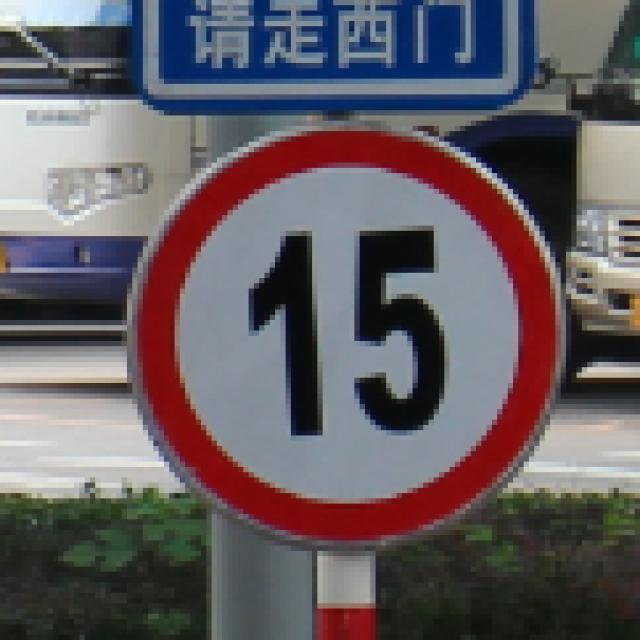Speed: (130, 121, 570, 537)
